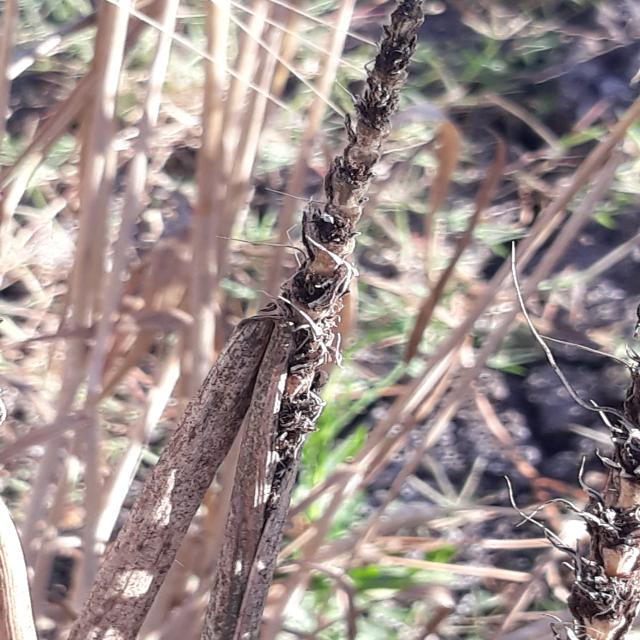loose_charred: (70, 0, 459, 640), (541, 279, 640, 640)
